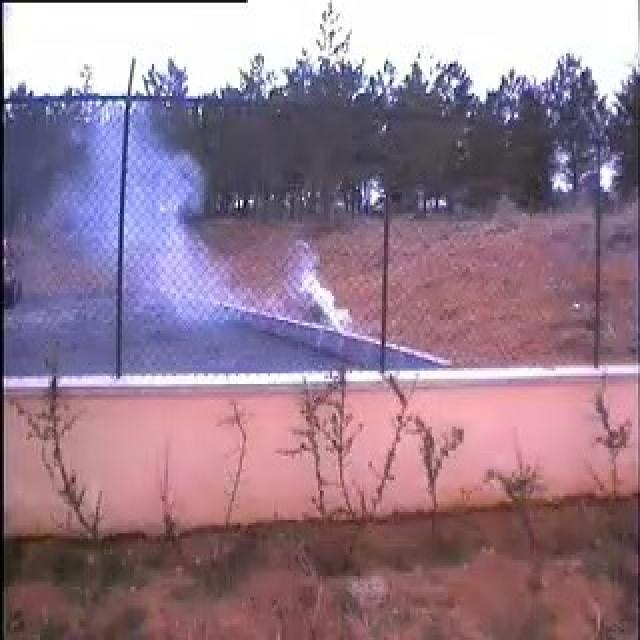smoke: (126, 127, 350, 342)
